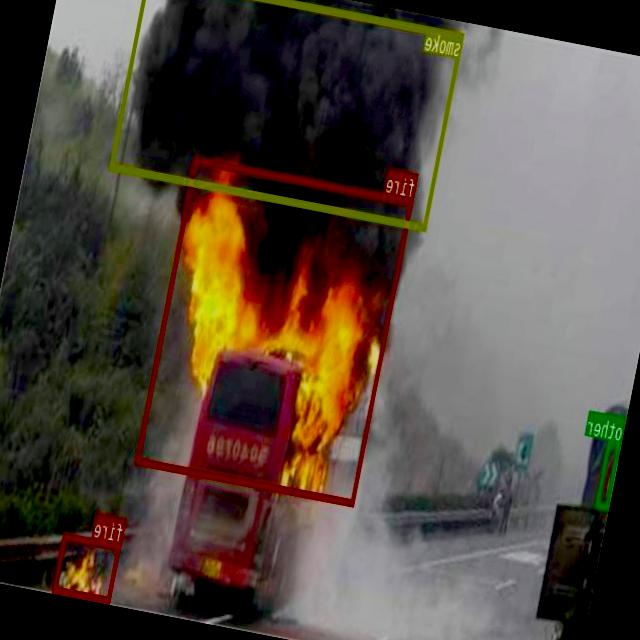fire: (136, 156, 414, 506), (54, 532, 122, 602)
smoke: (110, 0, 465, 231)
